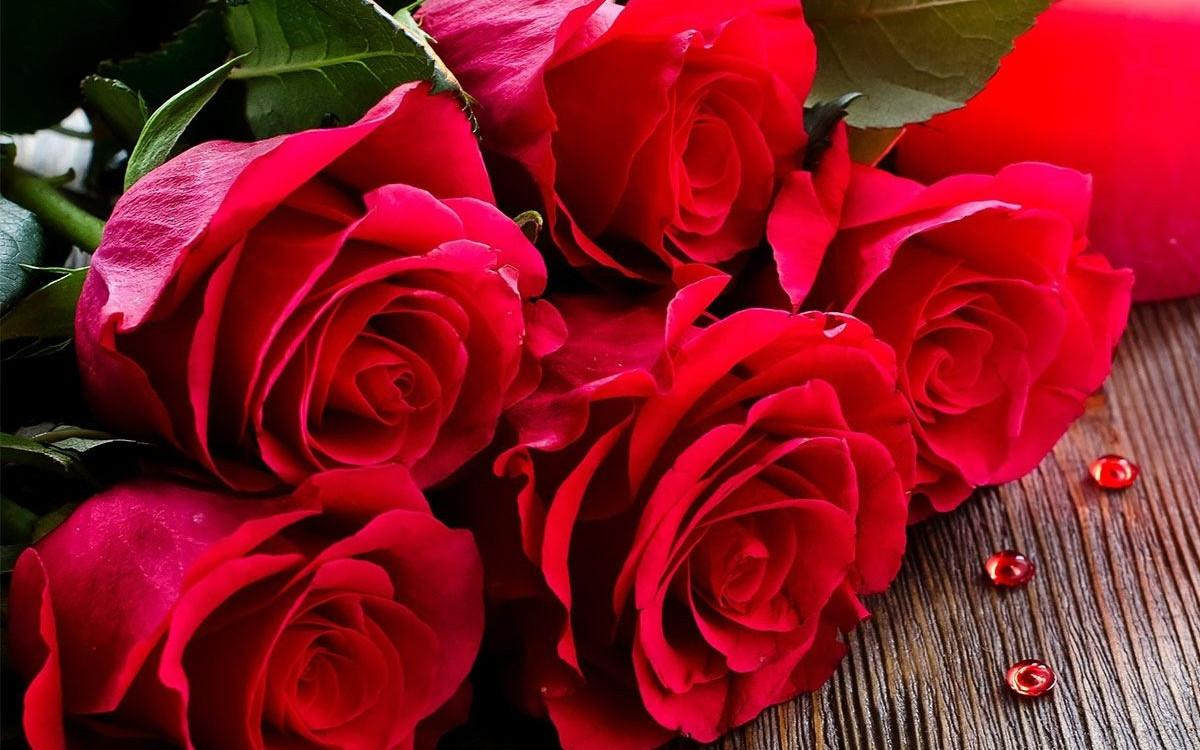rose: (7, 1, 1137, 747)
